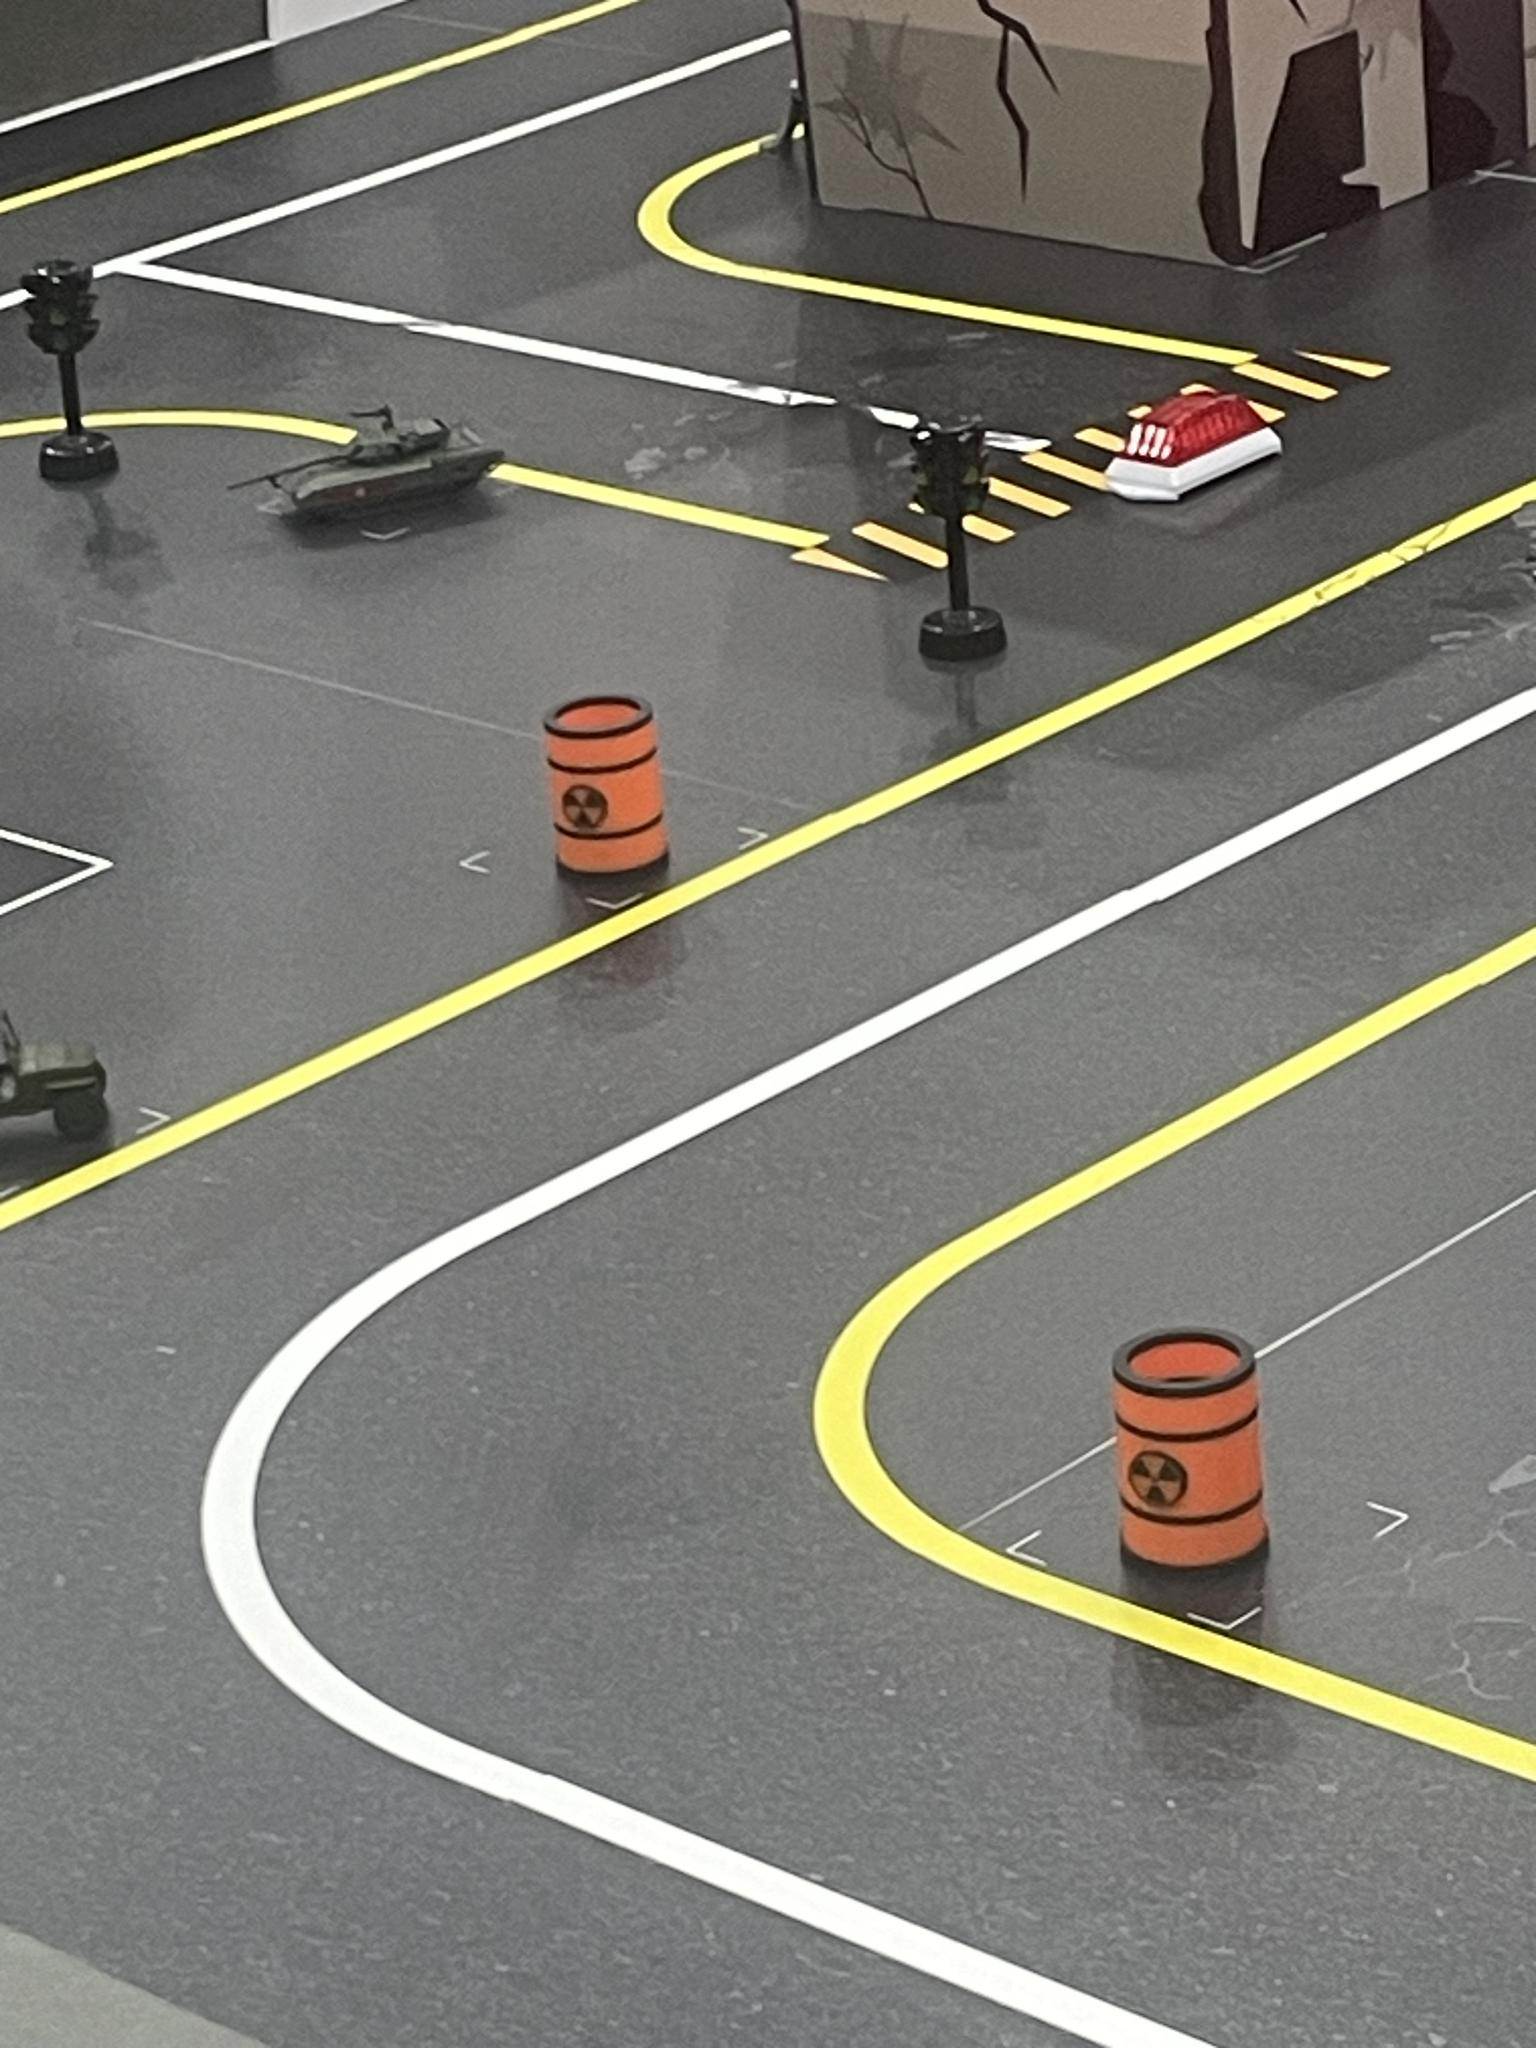Car: (0, 1008, 110, 1148)
Hazmat: (1102, 1334, 1270, 1569), (541, 701, 671, 892)
Tank: (224, 406, 510, 535)
